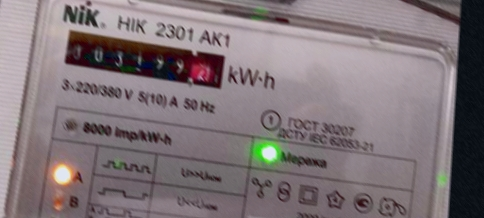0: (69, 40, 83, 60), (92, 42, 104, 62)
1: (133, 46, 144, 65)
3: (112, 48, 122, 67)
6: (195, 66, 205, 83)
9: (173, 56, 184, 75), (153, 51, 163, 69)
screen: (56, 24, 232, 96)
